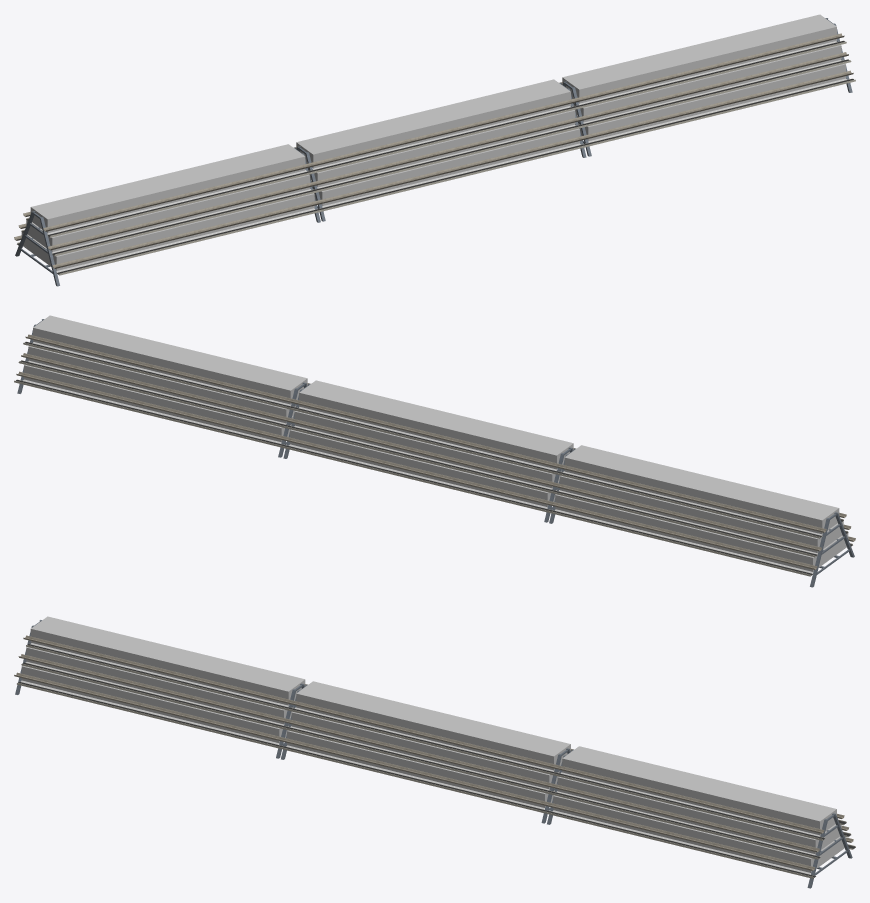
The model's file is jilong.FBX.
3 renders of one model, top to bottom at view 1: azimuth 30°, elevation 25°; view 2: azimuth 150°, elevation 25°; view 3: azimuth 330°, elevation 25°, orthographic.
Parts seen in each view (by area): view 1: jilong_01, jilong_02, pengzhuang; view 2: jilong_01, jilong_02, pengzhuang; view 3: jilong_01, jilong_02, pengzhuang.
Boxes of the visible parts, left/top/right/bottom form: jilong_01: left=21, top=14, right=845, bottom=270; jilong_02: left=14, top=18, right=855, bottom=286; pengzhuang: left=48, top=41, right=846, bottom=272; jilong_01: left=24, top=315, right=848, bottom=571; jilong_02: left=14, top=319, right=855, bottom=587; pengzhuang: left=23, top=342, right=821, bottom=573; jilong_01: left=21, top=616, right=845, bottom=872; jilong_02: left=14, top=620, right=855, bottom=888; pengzhuang: left=21, top=643, right=818, bottom=874.
Size of the model in its own units: 3839 by 262 by 352.
